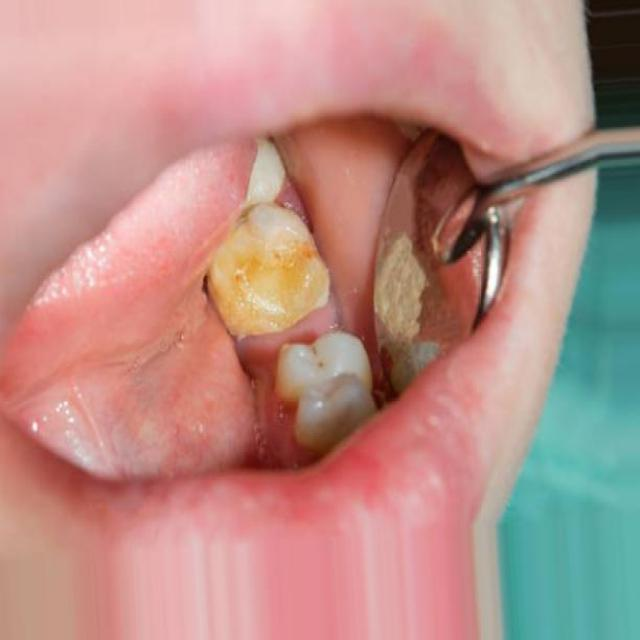caries: (202, 194, 336, 341)
